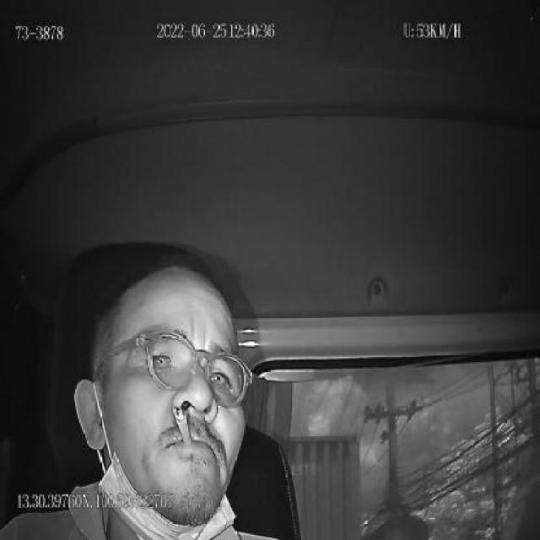smoking: (172, 405, 192, 444)
